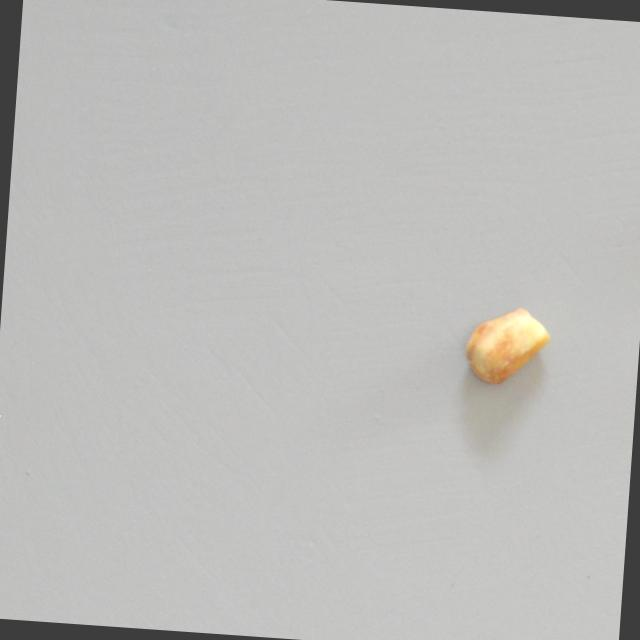dañado: (462, 303, 553, 391)
